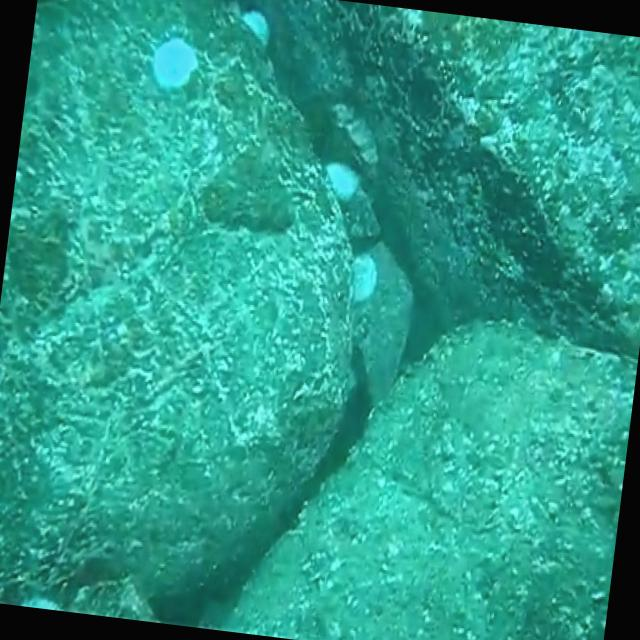Deniz Kestanesi: (146, 26, 208, 103), (311, 141, 366, 206), (233, 4, 284, 56), (344, 244, 382, 310)
